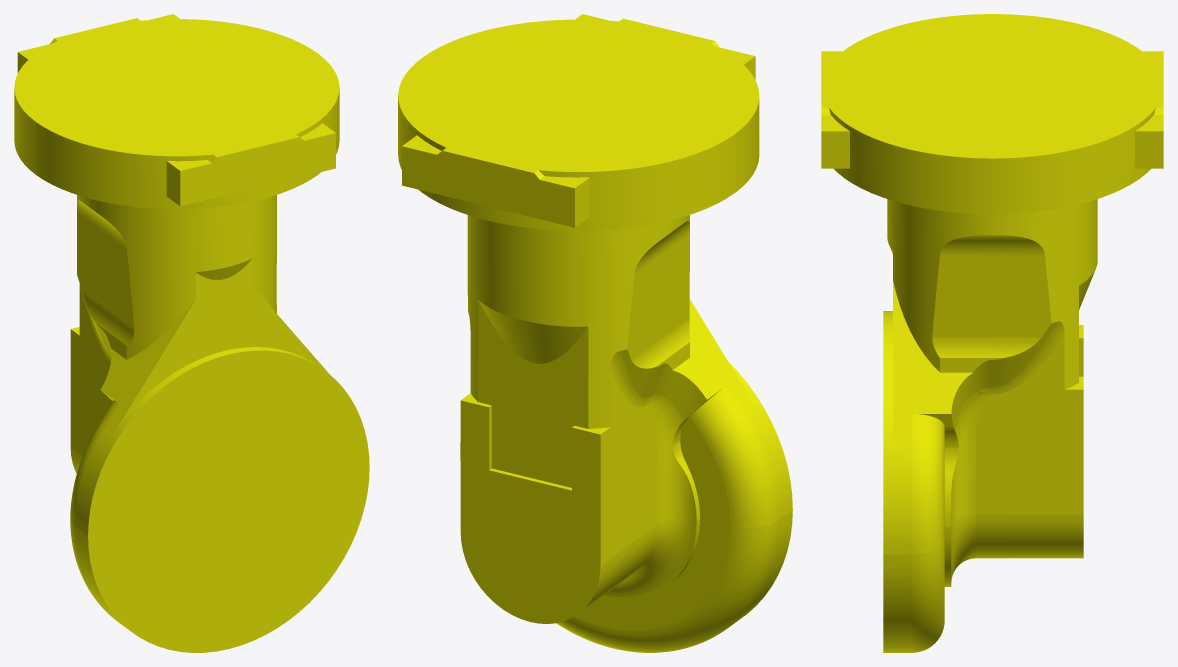
3 views of the same model, side by side, from view 1: azimuth 30°, elevation 25°; view 2: azimuth 150°, elevation 25°; view 3: azimuth 270°, elevation 25° (orthographic). The views are drawn at different scales.
Parts seen in each view (by area): view 1: Mesh_0; view 2: Mesh_0; view 3: Mesh_0.
Boxes of the visible parts, bbox=[...] form: Mesh_0: bbox=[14, 14, 369, 652]; Mesh_0: bbox=[398, 14, 792, 652]; Mesh_0: bbox=[821, 14, 1163, 652].
Bounding box in the file's own units: 0.208 × 0.208 × 0.3694.
